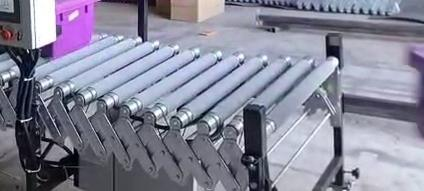box: (408, 44, 424, 136)
